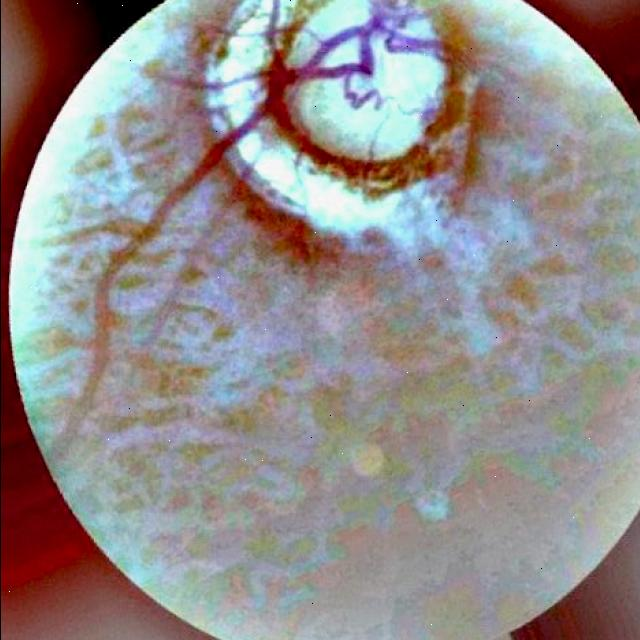Nerves: (92, 0, 444, 382)
Optic Disk: (289, 0, 444, 160)
